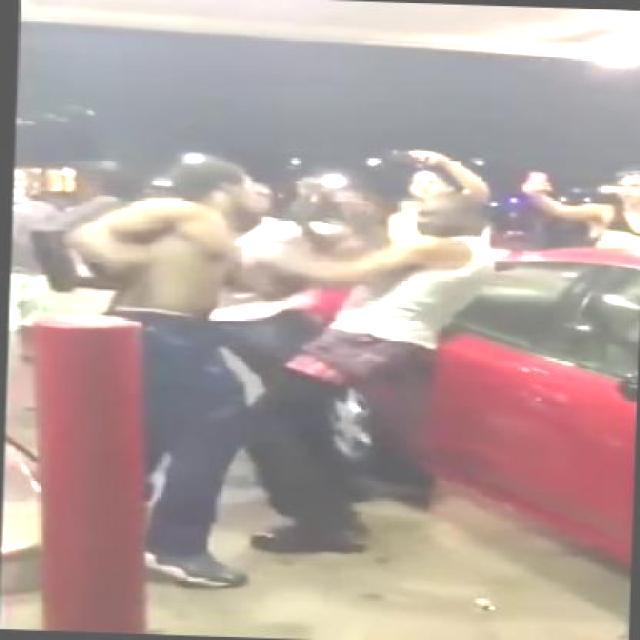fight: (56, 155, 489, 534)
